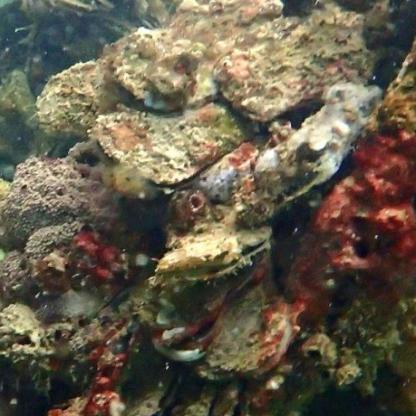Oyster- Indeterminate: (94, 105, 261, 195), (155, 225, 271, 289), (126, 362, 186, 416), (44, 0, 102, 18), (100, 16, 135, 37)
Oyster-Closed: (212, 6, 373, 119), (256, 84, 379, 201), (39, 59, 213, 138), (100, 31, 215, 107), (168, 0, 289, 64), (0, 69, 41, 130)
Oyster-Open: (212, 381, 251, 416)
